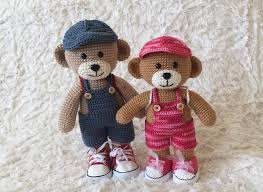teddy: (42, 12, 153, 187), (113, 32, 220, 191)
